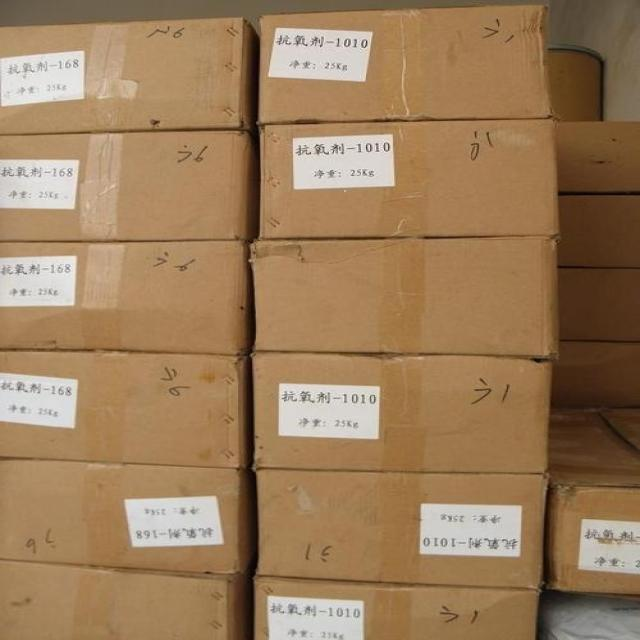box: (252, 236, 557, 359), (251, 353, 553, 474), (259, 119, 558, 239), (256, 3, 551, 124), (258, 470, 546, 589), (0, 18, 263, 136), (0, 459, 251, 579), (0, 130, 258, 245), (1, 351, 249, 469), (0, 240, 250, 353), (0, 561, 255, 639), (541, 408, 639, 597), (254, 576, 543, 638), (555, 120, 639, 196), (558, 195, 639, 270), (553, 341, 639, 411), (558, 268, 639, 341)
